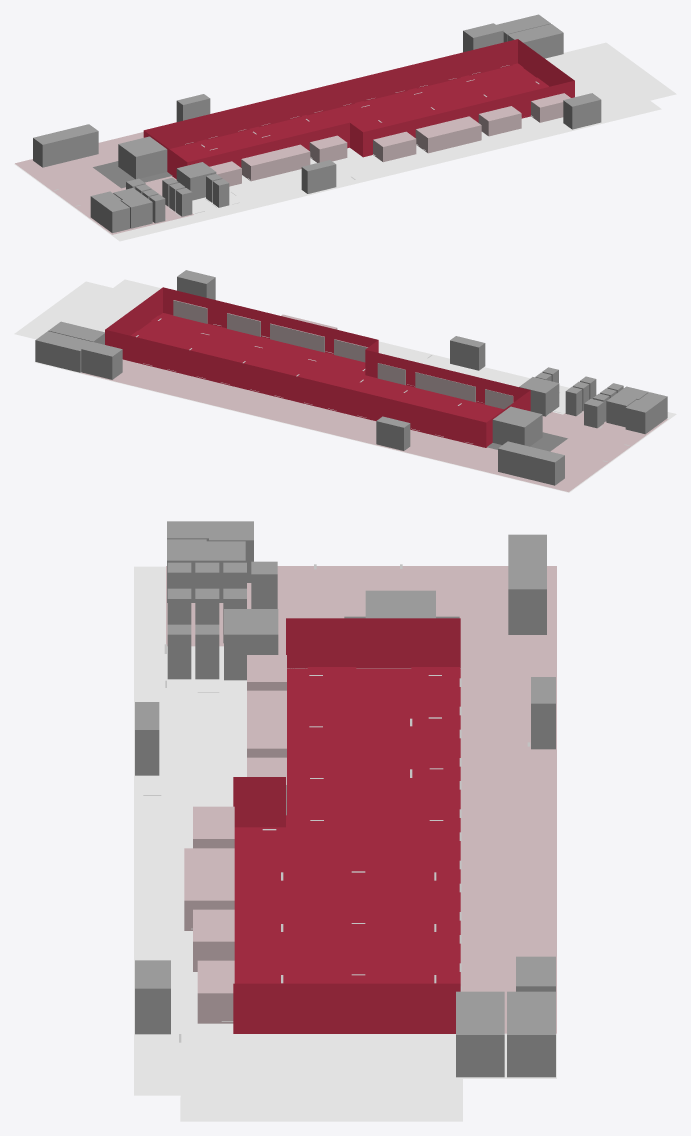
3 renders of one model, top to bottom at view 1: azimuth 30°, elevation 25°; view 2: azimuth 150°, elevation 25°; view 3: azimuth 270°, elevation 25°, orthographic. The views are drawn at different scales.
Visible parts, largest first — view 1: 6 main room, 6 FLOOR, 6 stairs, 6 Buffet AREA, 6 PRE-RUNCITON, 6 Toilet, 6 LIFT, 6 main room.D, 6 floor stairs; view 2: 6 main room, 6 PRE-RUNCITON, 6 stairs, 6 FLOOR, 6 Toilet, 6 Buffet AREA, 6 LIFT, 6 main room.D, 6 floor stairs; view 3: 6 main room, 6 FLOOR, 6 PRE-RUNCITON, 6 stairs, 6 Buffet AREA, 6 Toilet, 6 LIFT, 6 main room.D, 6 door.
Part boxes in pixels (bbox=[...]): 6 main room: bbox=[143, 39, 574, 179]; 6 FLOOR: bbox=[14, 42, 676, 241]; 6 stairs: bbox=[33, 23, 601, 200]; 6 Buffet AREA: bbox=[209, 93, 570, 186]; 6 PRE-RUNCITON: bbox=[15, 132, 193, 234]; 6 Toilet: bbox=[90, 14, 563, 233]; 6 LIFT: bbox=[135, 174, 229, 223]; 6 main room.D: bbox=[197, 63, 548, 150]; 6 floor stairs: bbox=[93, 161, 172, 188]; 6 main room: bbox=[105, 287, 530, 447]; 6 PRE-RUNCITON: bbox=[81, 359, 667, 492]; 6 stairs: bbox=[81, 270, 564, 485]; 6 FLOOR: bbox=[14, 279, 676, 492]; 6 Toilet: bbox=[35, 321, 667, 434]; 6 Buffet AREA: bbox=[173, 300, 513, 409]; 6 LIFT: bbox=[535, 367, 623, 422]; 6 main room.D: bbox=[131, 315, 470, 414]; 6 floor stairs: bbox=[487, 432, 567, 451]; 6 main room: bbox=[233, 618, 460, 1033]; 6 FLOOR: bbox=[134, 566, 556, 1121]; 6 PRE-RUNCITON: bbox=[166, 566, 556, 1033]; 6 stairs: bbox=[135, 534, 555, 1034]; 6 Buffet AREA: bbox=[184, 655, 286, 1023]; 6 Toilet: bbox=[167, 521, 555, 1077]; 6 LIFT: bbox=[167, 562, 246, 679]; 6 main room.D: bbox=[252, 667, 460, 983]; 6 door: bbox=[143, 564, 530, 1042].
Size of the model in its own units: 21.95 by 0.9459 by 7.07.
